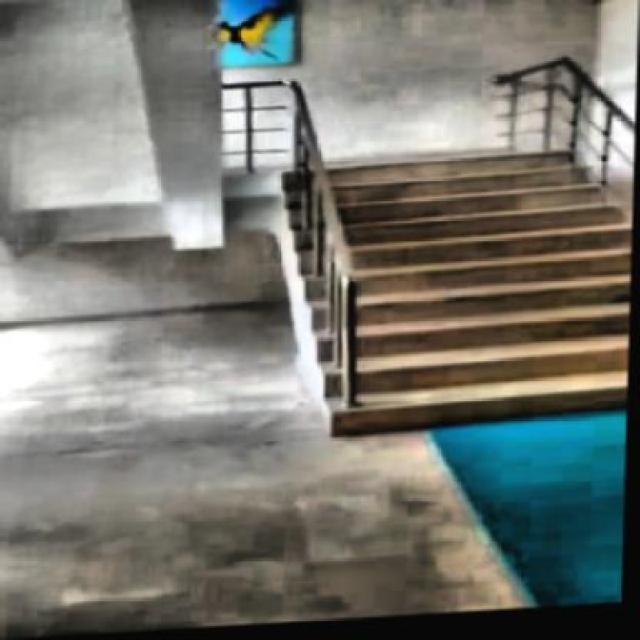stair: (261, 150, 634, 447)
